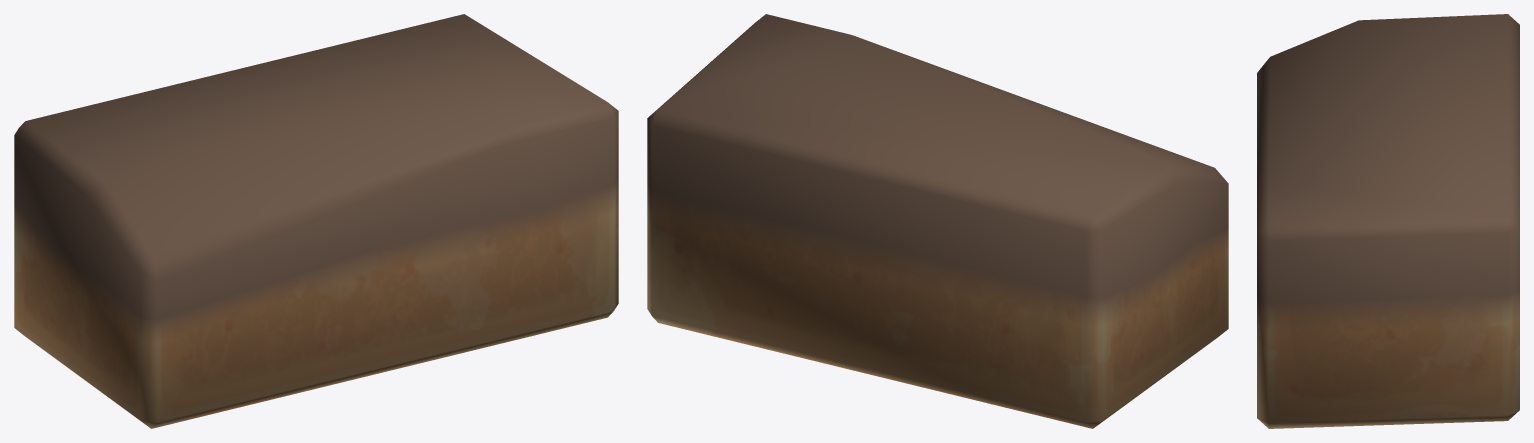
File: SM_brick_06.glb
The picture shows the model from 3 angles, left to right: view 1: azimuth 30°, elevation 25°; view 2: azimuth 150°, elevation 25°; view 3: azimuth 270°, elevation 25°; orthographic projection. The views are drawn at different scales.
Parts seen in each view (by area): view 1: SM_brick_06; view 2: SM_brick_06; view 3: SM_brick_06.
Part boxes in pixels (<box>): SM_brick_06: <box>14,14,618,428</box>; SM_brick_06: <box>647,14,1228,428</box>; SM_brick_06: <box>1257,14,1519,428</box>.
Size of the model in its own units: 0.4645 by 0.2 by 0.2335.
Materials: 1 (1 with a texture image).
